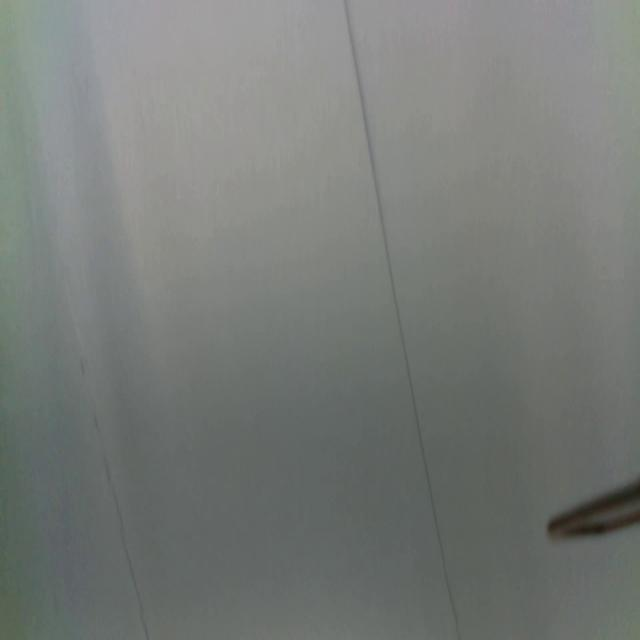crease: (345, 0, 460, 639), (103, 465, 148, 636)
